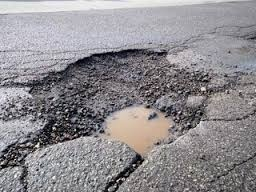pothole: (28, 41, 214, 156)
